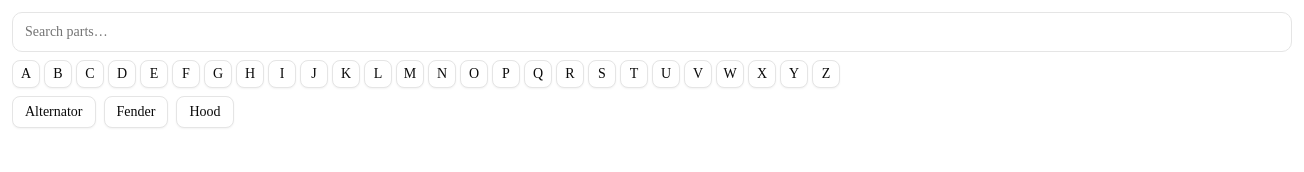
TaxonomyPicker › shows a no-matches message for a query that matches nothing
Type "zzz-nonexistent" into the field labelled "Search parts" at (652, 32), box 12,12 -> 1292,52
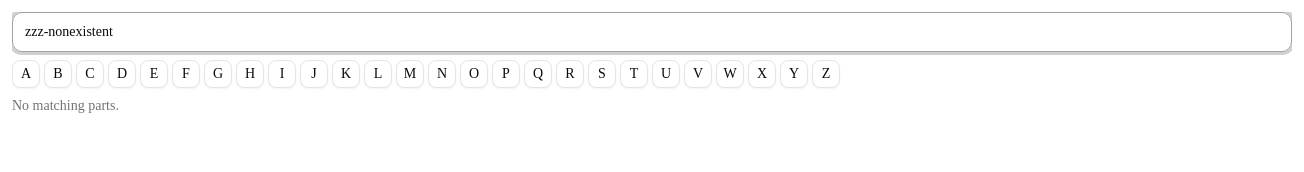
expect the text "No matching parts." is shown: met, box 12,98 -> 119,113
